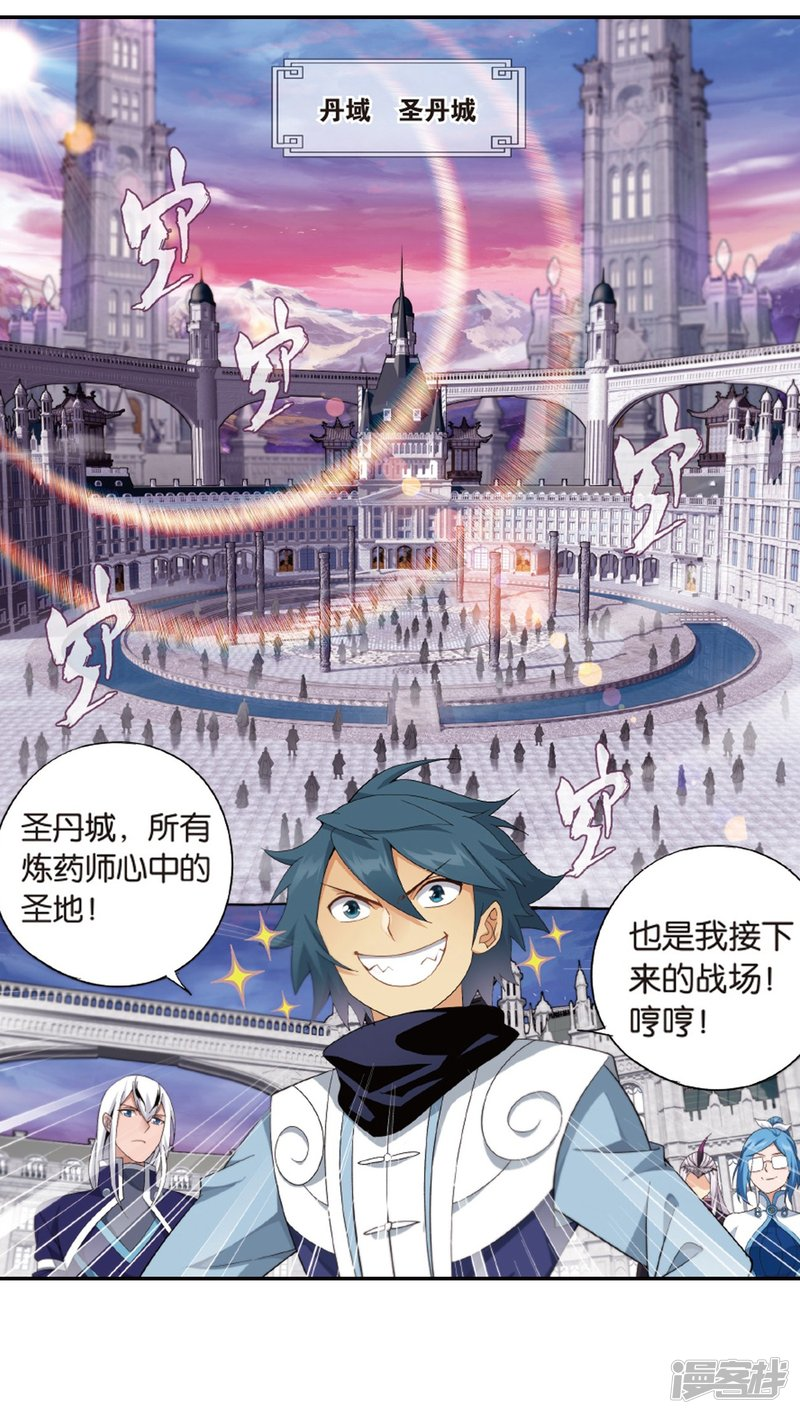boxEllipse: (0, 735, 236, 999), (568, 835, 800, 1099)
minBox: (0, 11, 800, 1291)
